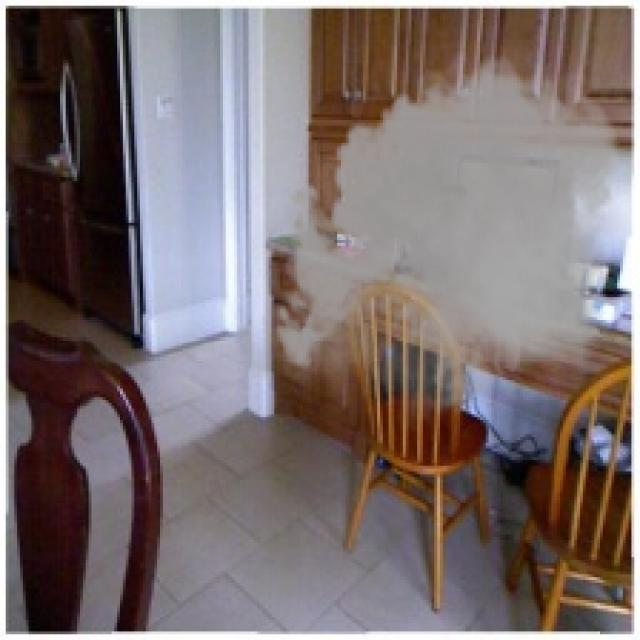Smoke: (263, 42, 632, 432)
